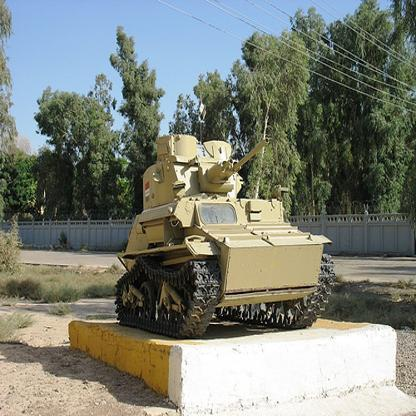Tank: (115, 131, 333, 337)
